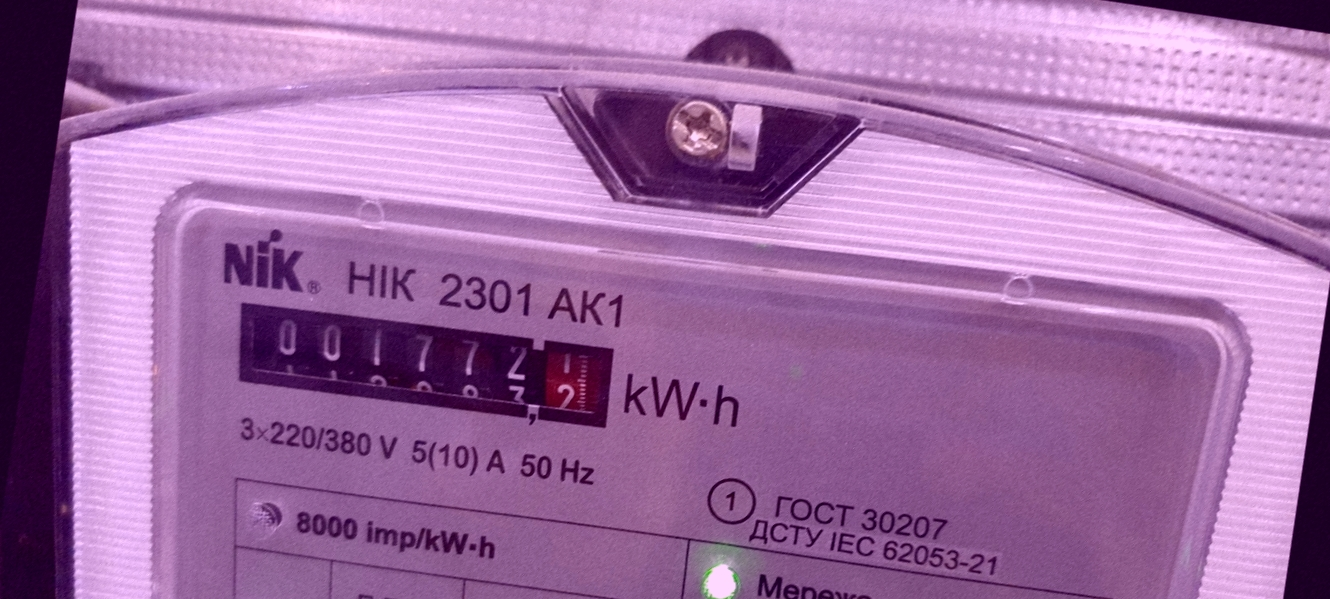0: (271, 314, 304, 358), (319, 321, 347, 363)
1: (367, 326, 389, 367), (559, 350, 576, 377)
2: (504, 344, 532, 383), (551, 380, 578, 411)
3: (506, 382, 530, 406)
7: (409, 331, 437, 375), (456, 337, 482, 378)
screen: (218, 282, 637, 448)
